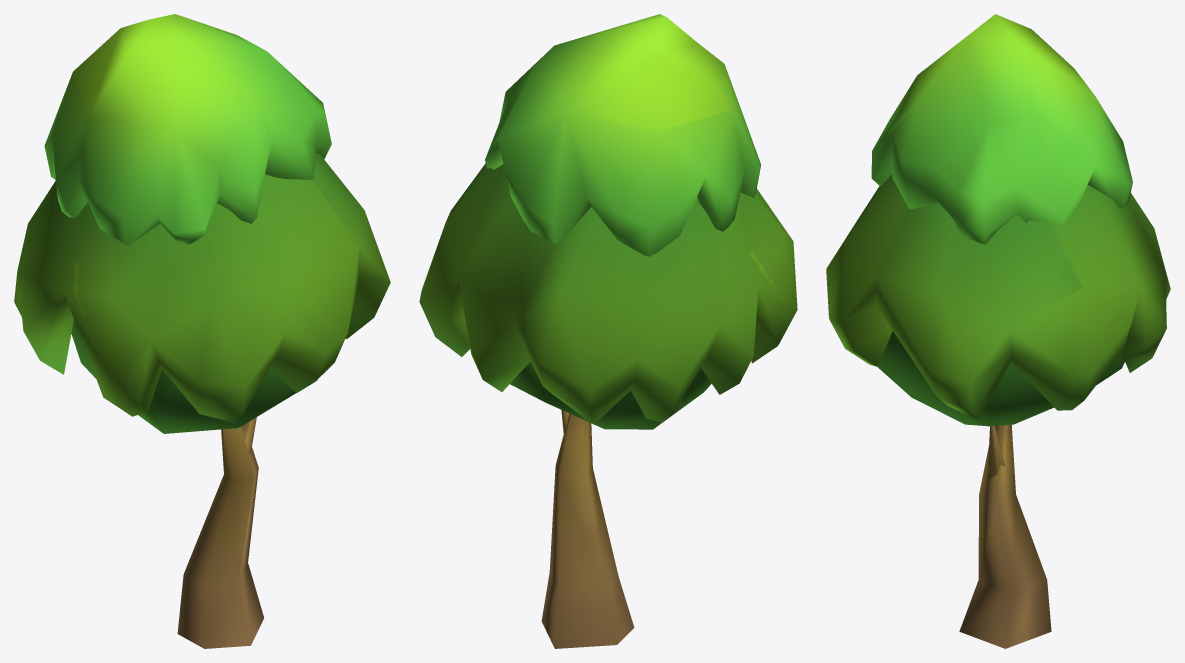
Rendered from SM_Tree_10_LOD_02.fbx.
3 views of the same model, side by side, from view 1: azimuth 30°, elevation 25°; view 2: azimuth 150°, elevation 25°; view 3: azimuth 270°, elevation 25° (orthographic). The views are drawn at different scales.
Visible parts, largest first — view 1: tree10_LOD_02; view 2: tree10_LOD_02; view 3: tree10_LOD_02.
Boxes of the visible parts, box(x1,y1,x2,y2) form: tree10_LOD_02: box(14, 14, 390, 648); tree10_LOD_02: box(419, 14, 797, 648); tree10_LOD_02: box(826, 14, 1170, 648).
Size of the model in its own units: 975 by 1814 by 975.
1 material, 1 textured.
